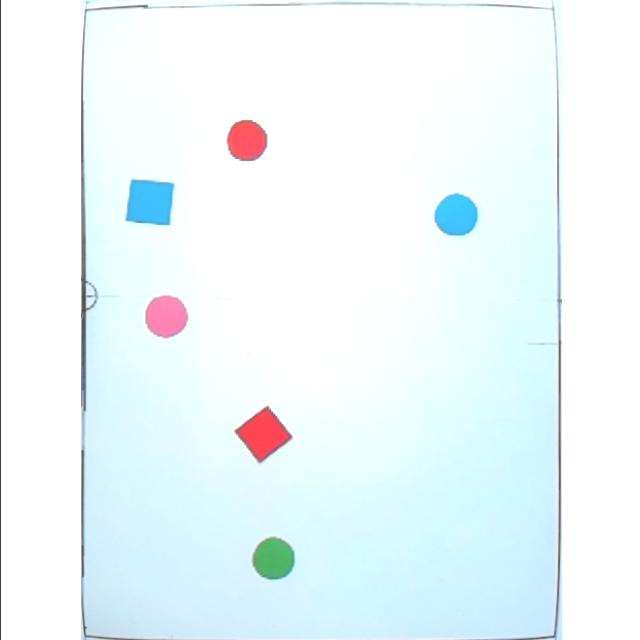blueCircle: (432, 192, 476, 236)
blueSquare: (122, 180, 174, 227)
greenCircle: (249, 537, 293, 581)
pinkCircle: (142, 294, 186, 338)
redCircle: (224, 118, 266, 162)
redSquare: (231, 406, 293, 464)
